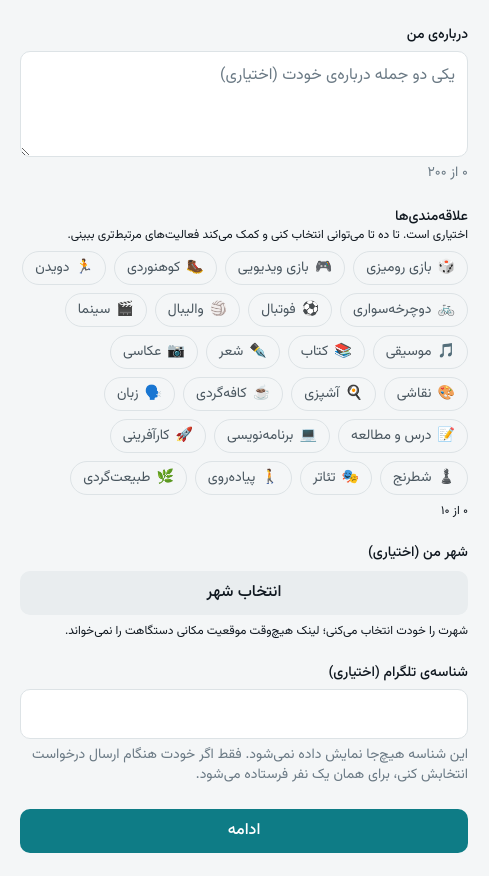
profile setup — US-02 › CR-02 item 3 — an error CLEARS as soon as the field is corrected
The width and height of the screenshot is (489, 876).
(page scrolled)
Step 1. Click the button with test id "profile-setup-submit" → point(244, 831), box [20, 809, 468, 853]
(page scrolled)
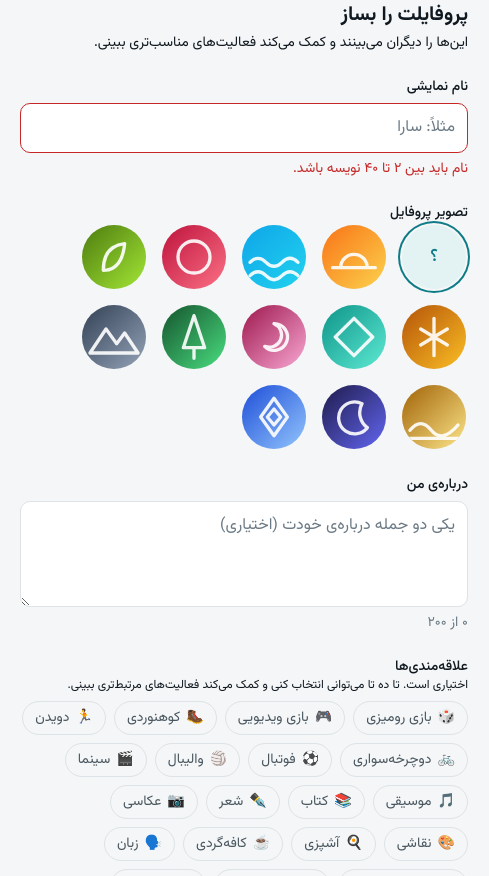
Expected: the text "نام باید بین ۲ تا ۴۰ نویسه باشد." is shown, [293, 158, 468, 180]
Step 2. Type "محمد علی" into the field with test id "profile-setup-name" → point(244, 128), box [20, 103, 468, 153]
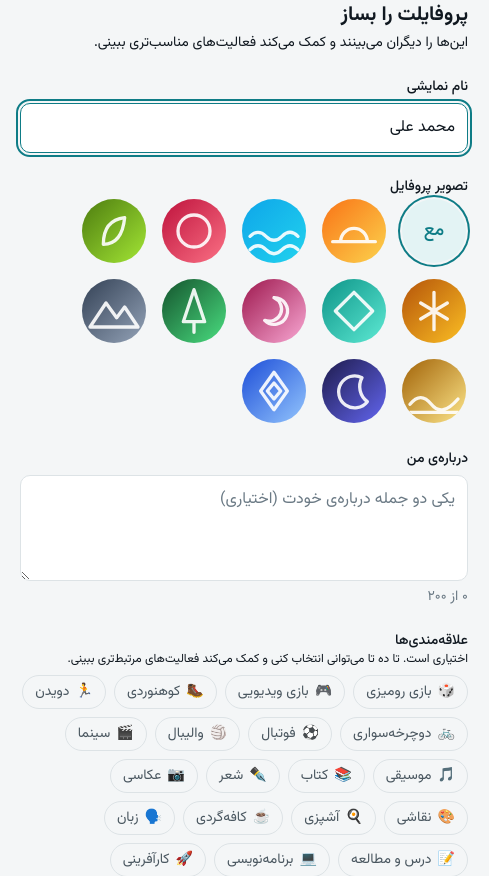
Expected: the text "نام باید بین ۲ تا ۴۰ نویسه باشد." is gone
